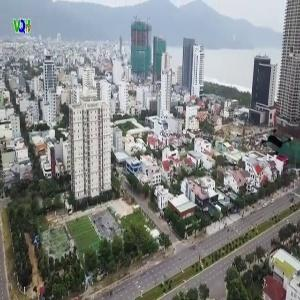drone: (255, 126, 295, 166)
